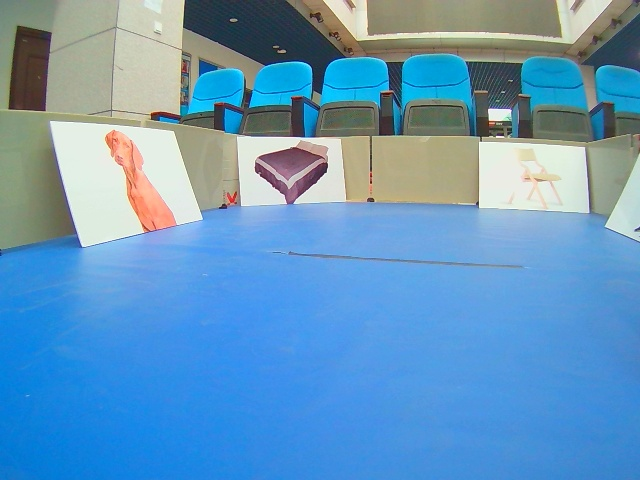bed: (237, 135, 347, 202)
pet: (50, 122, 204, 248)
table: (480, 141, 590, 214)
